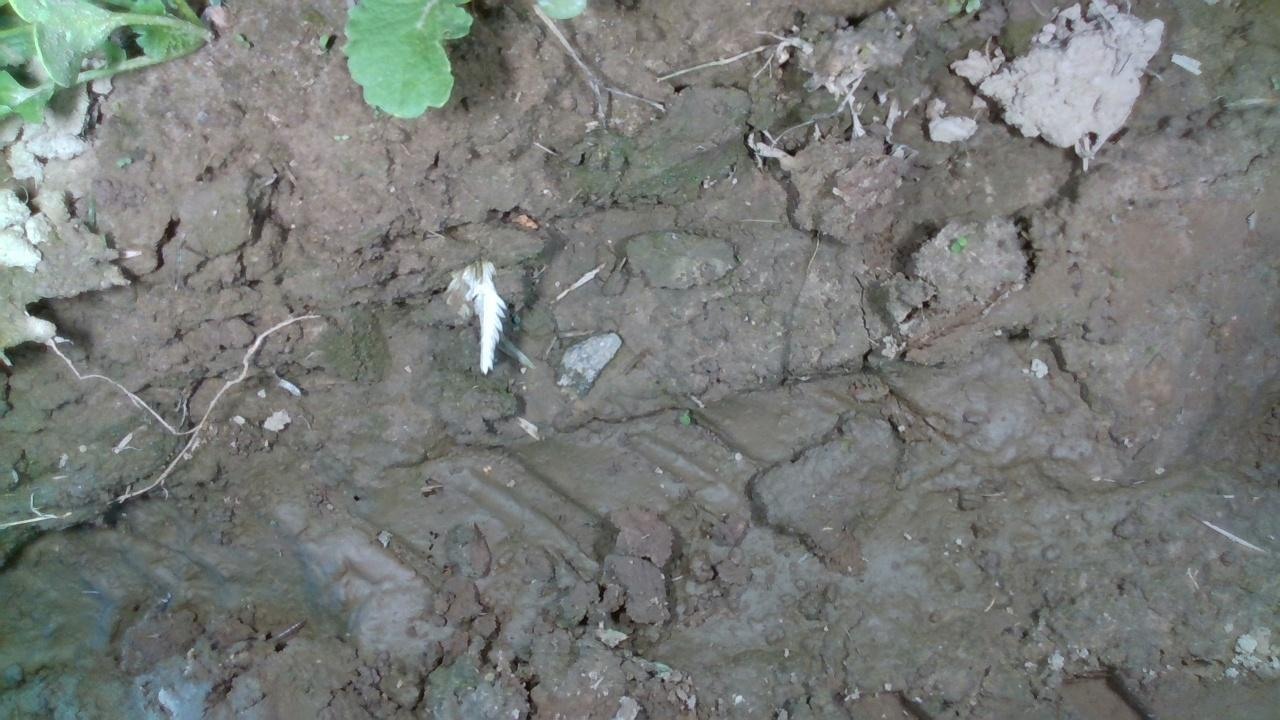weed: (947, 234, 966, 254), (115, 154, 131, 166)
